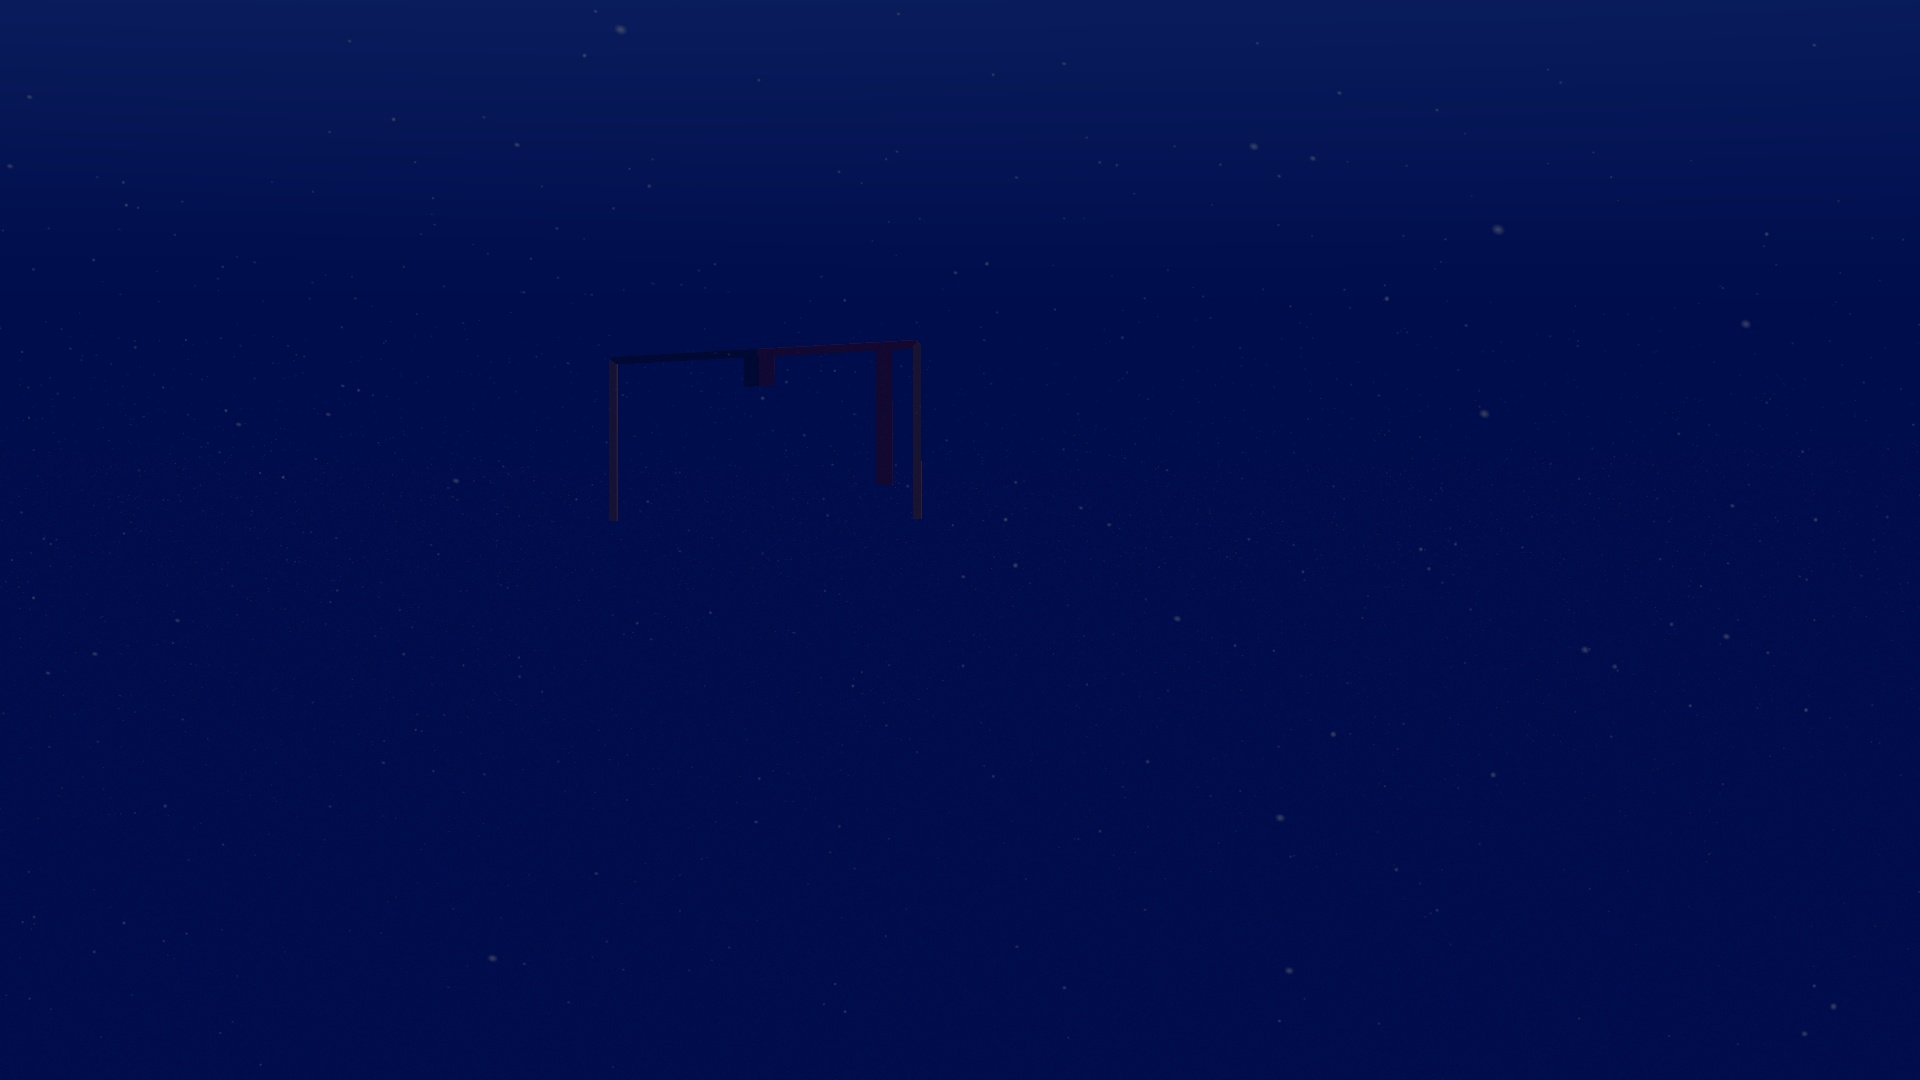Gate: (600, 338, 928, 535)
